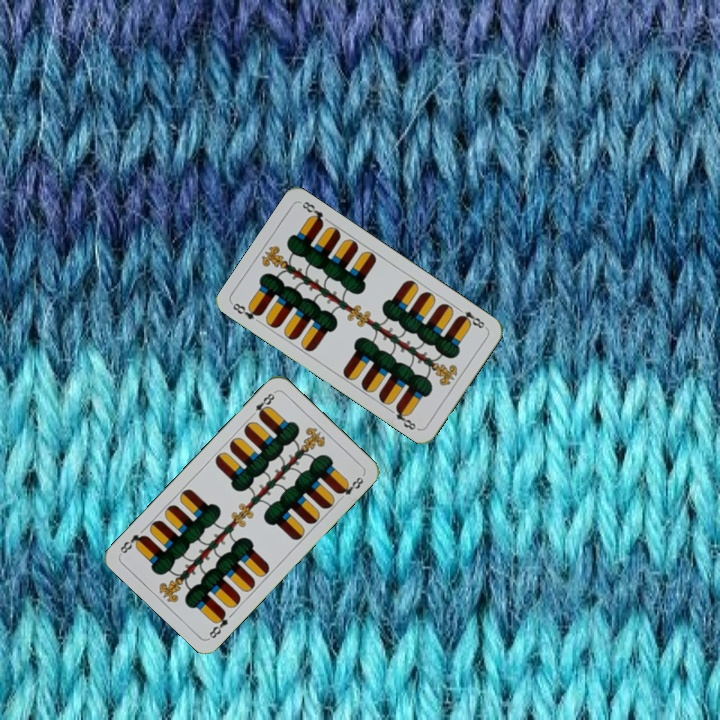E8: (228, 299, 265, 327), (246, 388, 278, 420), (453, 303, 489, 331), (205, 607, 231, 641)
